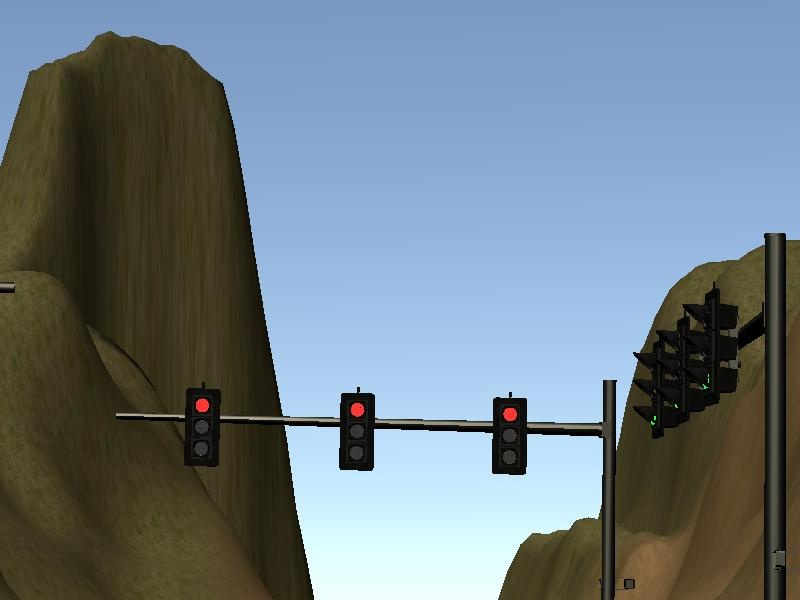red: (175, 377, 226, 473), (332, 380, 381, 479), (488, 389, 533, 483)
